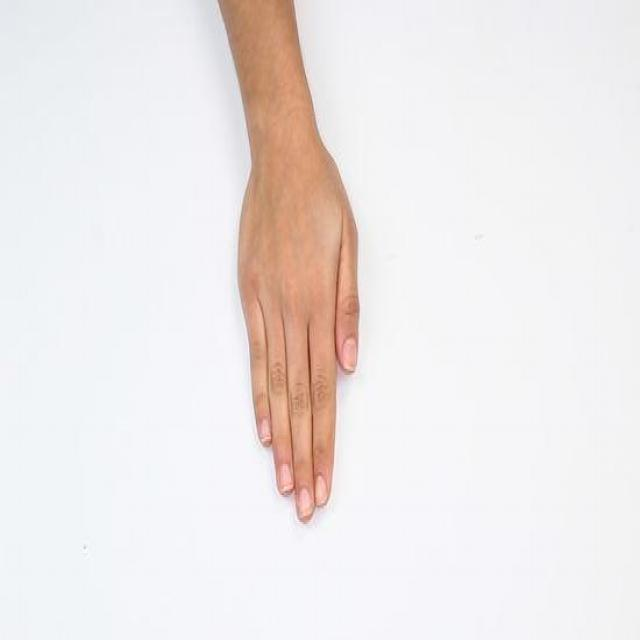hand: (237, 142, 361, 521)
